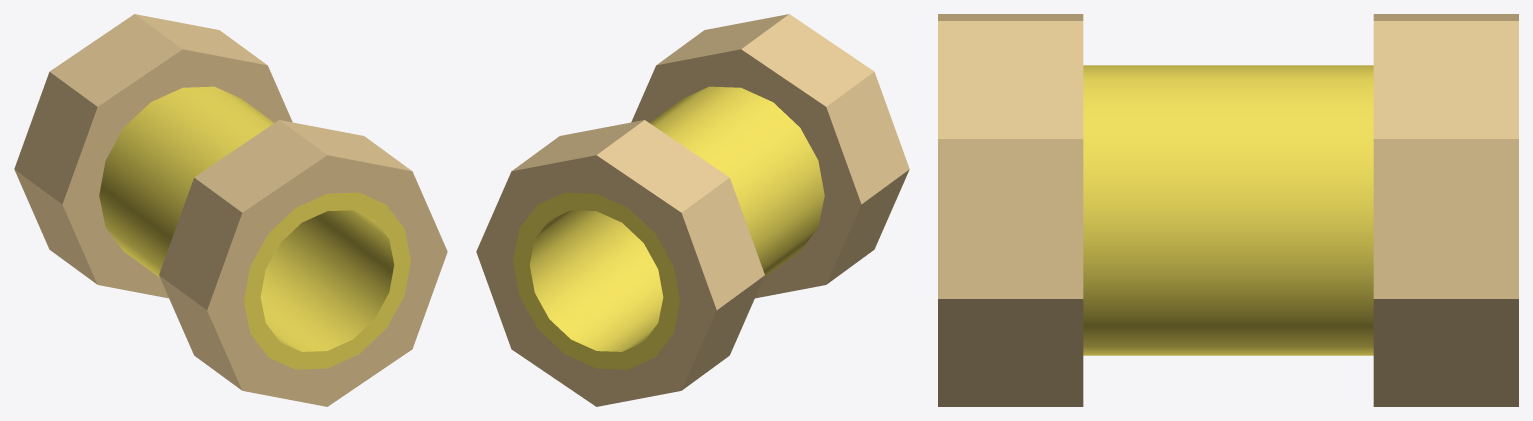
Rendered from pipe_1m.fbx.
3 views of the same model, side by side, from view 1: azimuth 30°, elevation 25°; view 2: azimuth 150°, elevation 25°; view 3: azimuth 270°, elevation 25° (orthographic). The views are drawn at different scales.
Parts seen in each view (by area): view 1: Vert.020, Vert.021, Vert.044; view 2: Vert.020, Vert.044, Vert.021; view 3: Vert.020, Vert.021, Vert.044.
Part boxes in pixels (box(x1,y1,x2,y2)): Vert.020: box(99, 86, 410, 369); Vert.021: box(159, 120, 447, 406); Vert.044: box(14, 14, 292, 298); Vert.020: box(513, 86, 824, 369); Vert.044: box(476, 120, 764, 406); Vert.021: box(631, 14, 909, 298); Vert.020: box(1083, 65, 1373, 355); Vert.021: box(938, 14, 1083, 406); Vert.044: box(1373, 14, 1518, 406).
Bounding box in the file's own units: 72 × 72 × 100.
